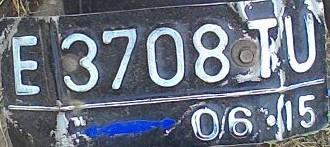clone-license-plate: (0, 1, 329, 140)
